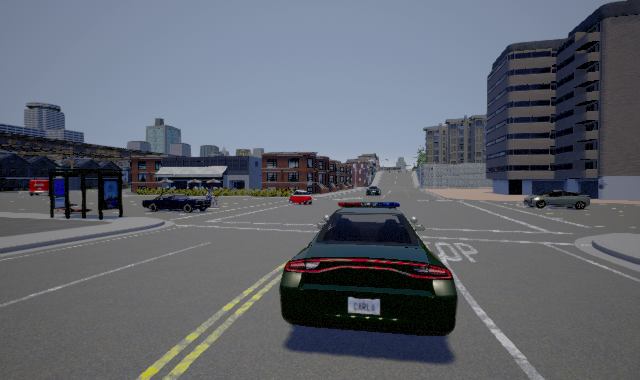bike: (204, 187, 221, 207)
vehicle: (279, 202, 458, 336), (142, 195, 218, 214), (523, 190, 590, 210), (283, 186, 313, 207), (29, 180, 49, 196)
